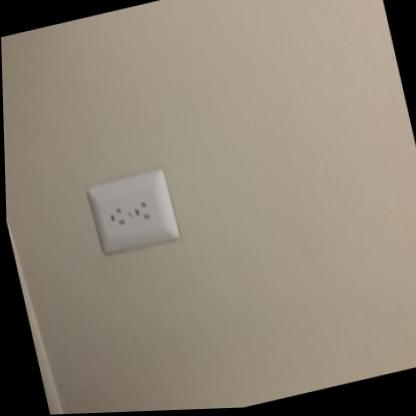OUTLET: (83, 167, 180, 261)
